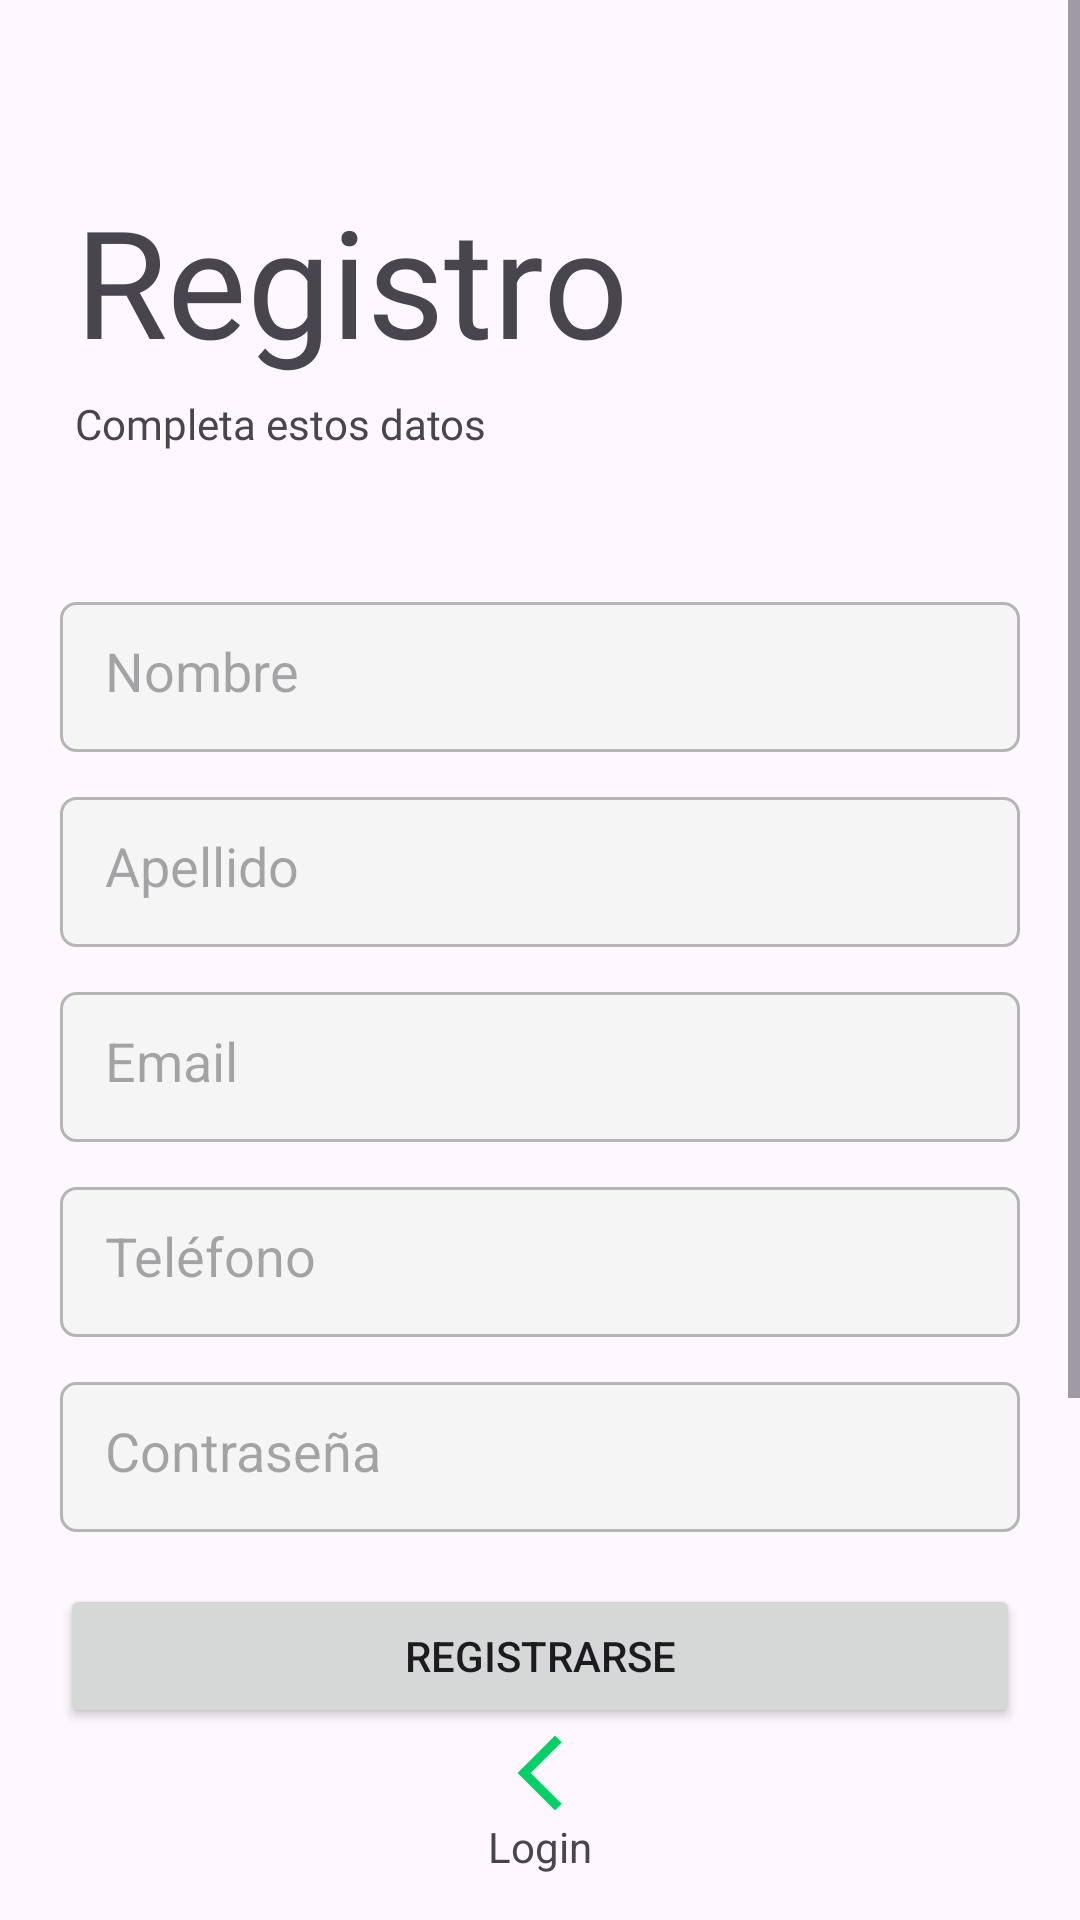

Screen size 1080px x 1920px. Icon name, then its center in pixels as [x,y]:
arrow back: [539,1773]
